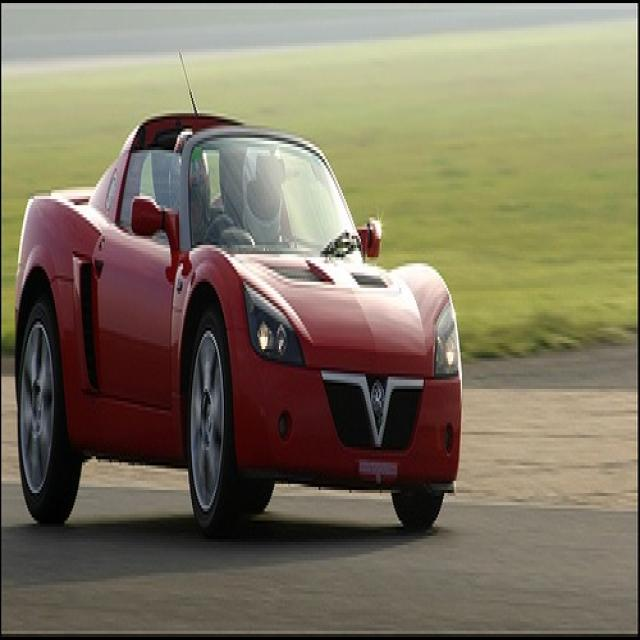car: (18, 92, 467, 536)
